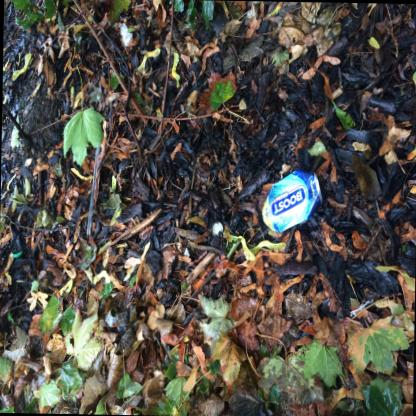Metal: (262, 169, 322, 232), (211, 221, 223, 236)
Plastic: (86, 142, 100, 235)
